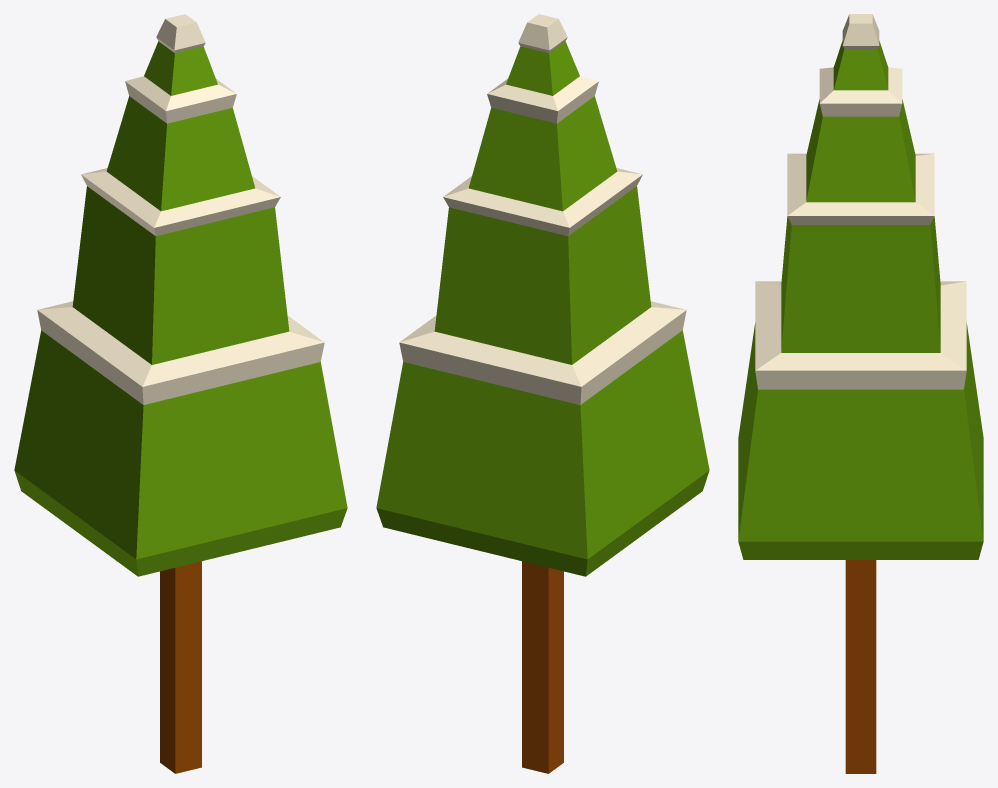
File: Tree_32_Winter.fbx
3 renders of one model, left to right at view 1: azimuth 30°, elevation 25°; view 2: azimuth 150°, elevation 25°; view 3: azimuth 270°, elevation 25°, orthographic.
Parts seen in each view (by area): view 1: Tree_32_Winter; view 2: Tree_32_Winter; view 3: Tree_32_Winter.
Part boxes in pixels (x1=…): Tree_32_Winter: x1=14, y1=14, x2=347, y2=773; Tree_32_Winter: x1=376, y1=14, x2=709, y2=773; Tree_32_Winter: x1=738, y1=14, x2=983, y2=773.
Size of the model in its own units: 113 by 381 by 113.
